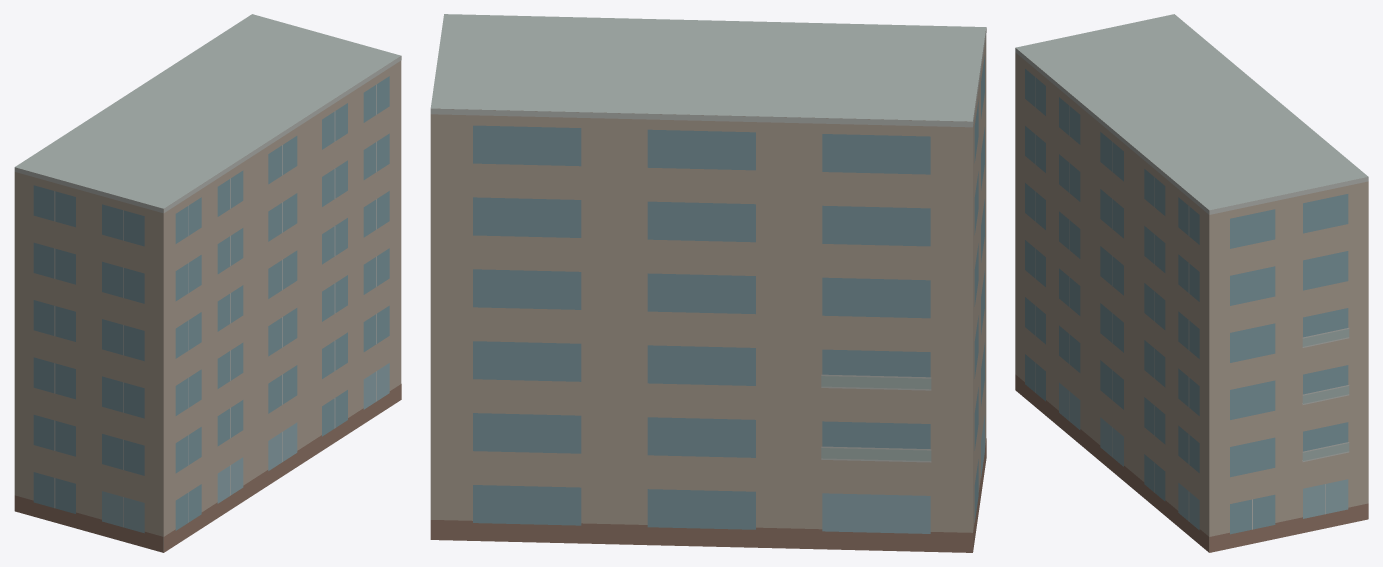
The model's file is survey-upis-32705896.glb.
The picture shows the model from 3 angles, left to right: view 1: azimuth 30°, elevation 25°; view 2: azimuth 150°, elevation 25°; view 3: azimuth 270°, elevation 25°; orthographic projection. The views are drawn at different scales.
Parts seen in each view (by area): view 1: survey-upis-32705896.tmp; view 2: survey-upis-32705896.tmp; view 3: survey-upis-32705896.tmp.
Boxes of the visible parts, x1,y1,x2,y2 form: survey-upis-32705896.tmp: (14, 14, 401, 552); survey-upis-32705896.tmp: (430, 14, 986, 552); survey-upis-32705896.tmp: (1015, 14, 1368, 552).
Size of the model in its own units: 22.51 by 18.3 by 17.12.
